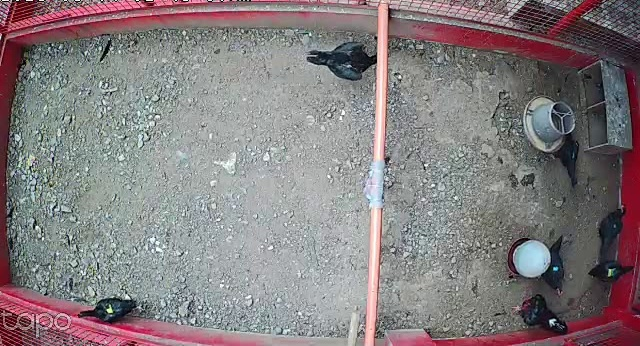Chicken: (303, 35, 395, 83), (588, 205, 627, 263), (74, 292, 141, 325), (549, 126, 581, 191), (539, 232, 568, 296), (586, 254, 634, 286)
Rooster: (508, 291, 569, 335)
Saddle_Color_Blue: (551, 265, 559, 272)
Saddle_Color_Yellow: (105, 303, 114, 315)
Saddle_Color_YellowGreen: (608, 268, 616, 276)
